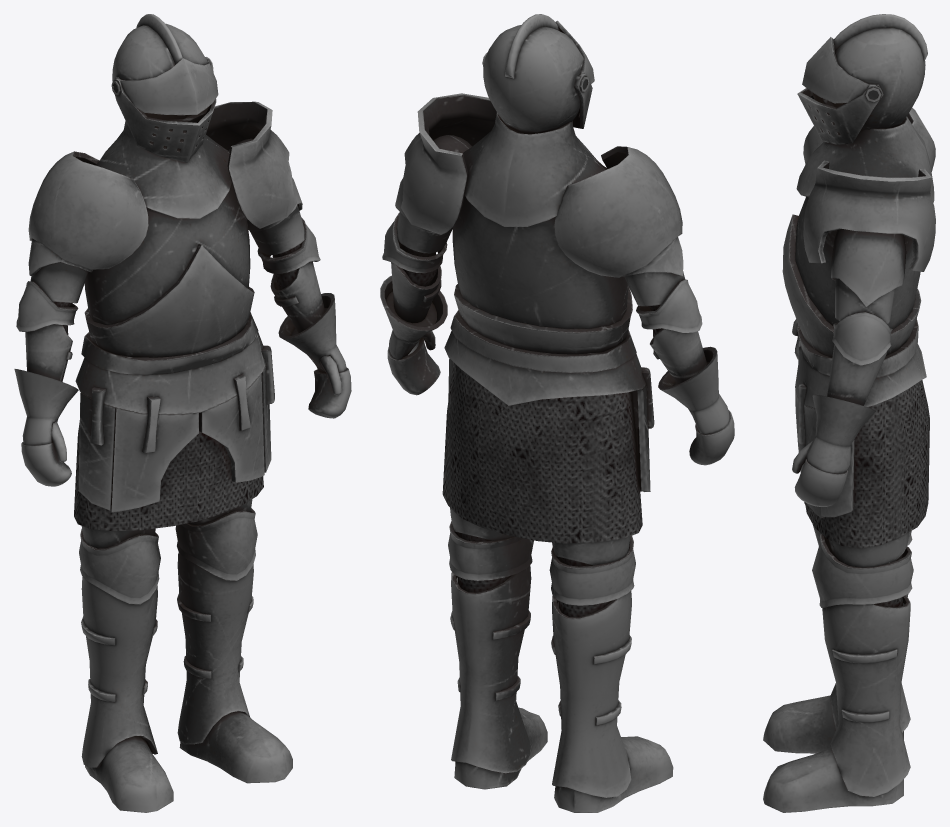
3 renders of one model, left to right at view 1: azimuth 30°, elevation 25°; view 2: azimuth 150°, elevation 25°; view 3: azimuth 270°, elevation 25°, orthographic. The views are drawn at different scales.
Parts seen in each view (by area): view 1: Legs 3_0, A Shoulder 1_6, Chest 2_17, Chest 3_23, Chest 6_19, Legs 5_2, Legs 2_3, Chest 8_22, A Shoulder 2_7, Chest 1_21, Chest 5_18, Arms 7_10 (+16 smaller); view 2: Chest 8_22, Legs 3_0, Chest 2_17, A Shoulder 1_6, Chest 1_21, Head 1_27, A Shoulder 2_7, Legs 2_3, Chest 5_18, Legs 5_2, Arms 7_10, Chest 3_23 (+11 smaller); view 3: Legs 3_0, Chest 8_22, A Shoulder 2_7, Legs 5_2, Head 1_27, Chest 1_21, Legs 2_3, Arms 1_8, Chest 2_17, Chest 3_23, Arms 7_10, Head 4_31 (+15 smaller).
Part boxes in pixels (left/top/right/bottom): Legs 3_0: left=81, top=552, right=253, bottom=767; A Shoulder 1_6: left=28, top=151, right=148, bottom=269; Chest 2_17: left=84, top=183, right=250, bottom=324; Chest 3_23: left=84, top=244, right=254, bottom=357; Chest 6_19: left=111, top=373, right=264, bottom=512; Legs 5_2: left=85, top=711, right=292, bottom=812; Legs 2_3: left=79, top=508, right=257, bottom=604; Chest 8_22: left=74, top=423, right=263, bottom=531; A Shoulder 2_7: left=206, top=101, right=296, bottom=228; Chest 1_21: left=96, top=115, right=231, bottom=218; Chest 5_18: left=75, top=332, right=265, bottom=414; Arms 7_10: left=14, top=293, right=346, bottom=445; Chest 8_22: left=442, top=362, right=642, bottom=543; Legs 3_0: left=451, top=565, right=631, bottom=797; Chest 2_17: left=452, top=195, right=628, bottom=328; A Shoulder 1_6: left=554, top=146, right=682, bottom=277; Chest 1_21: left=463, top=112, right=607, bottom=226; Head 1_27: left=483, top=25, right=583, bottom=134; A Shoulder 2_7: left=400, top=93, right=496, bottom=234; Legs 2_3: left=448, top=521, right=635, bottom=605; Chest 5_18: left=444, top=331, right=646, bottom=405; Legs 5_2: left=454, top=707, right=673, bottom=812; Arms 7_10: left=380, top=275, right=729, bottom=434; Chest 3_23: left=454, top=284, right=632, bottom=354; Legs 3_0: left=822, top=594, right=910, bottom=796; Chest 8_22: left=804, top=380, right=929, bottom=548; A Shoulder 2_7: left=803, top=160, right=935, bottom=271; Legs 5_2: left=763, top=695, right=903, bottom=812; Head 1_27: left=822, top=27, right=925, bottom=130; Chest 1_21: left=796, top=116, right=934, bottom=202; Legs 2_3: left=812, top=524, right=913, bottom=607; Arms 1_8: left=831, top=229, right=906, bottom=306; Chest 2_17: left=795, top=196, right=920, bottom=329; Chest 3_23: left=782, top=214, right=921, bottom=357; Arms 7_10: left=806, top=394, right=875, bottom=473; Head 4_31: left=797, top=84, right=883, bottom=144.
Size of the model in its own units: 2.02 by 4.41 by 0.915.
Materials: 1 (1 with a texture image).
